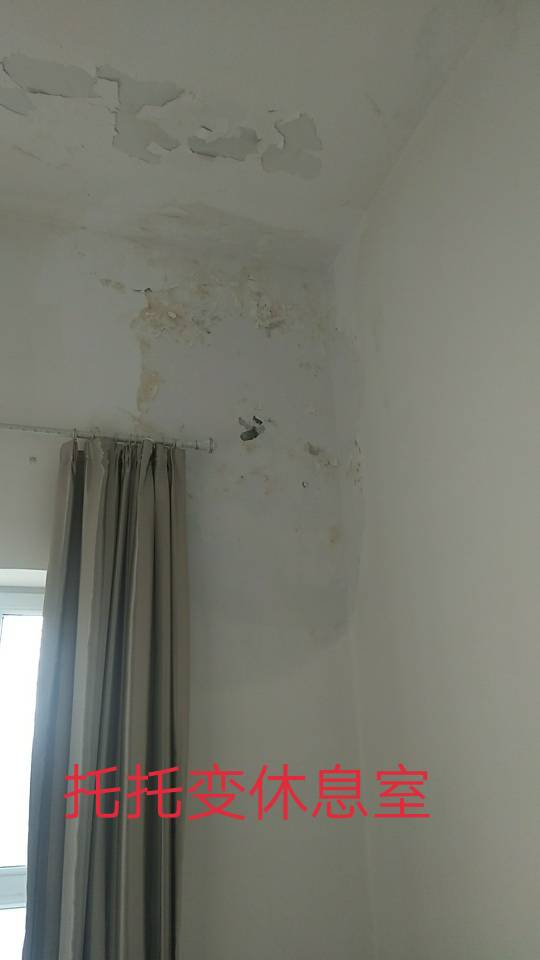dog: (153, 285, 299, 430)
